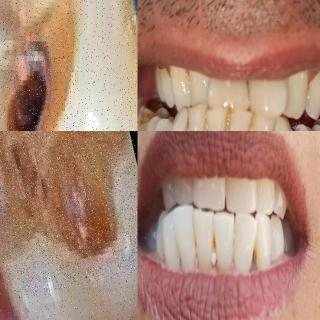calculus: (208, 227, 221, 281), (245, 244, 265, 275), (226, 236, 238, 270), (218, 114, 234, 131), (197, 116, 213, 131), (242, 117, 256, 131), (177, 119, 190, 131)
cavities: (0, 131, 138, 277), (0, 3, 96, 131)
maligned: (246, 73, 288, 115), (209, 73, 249, 109), (175, 204, 194, 274), (233, 213, 256, 270), (164, 205, 178, 273), (188, 67, 212, 106), (202, 103, 230, 131), (184, 100, 208, 131), (229, 107, 253, 131), (168, 107, 192, 131)
stains: (288, 127, 306, 131), (267, 127, 280, 131)
